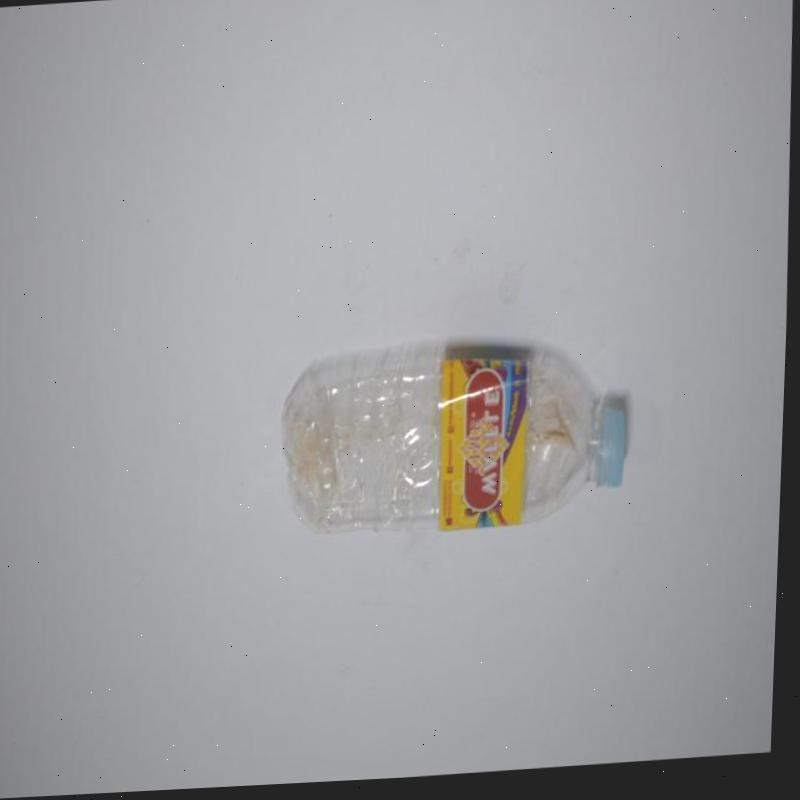botella: (278, 347, 637, 545)
